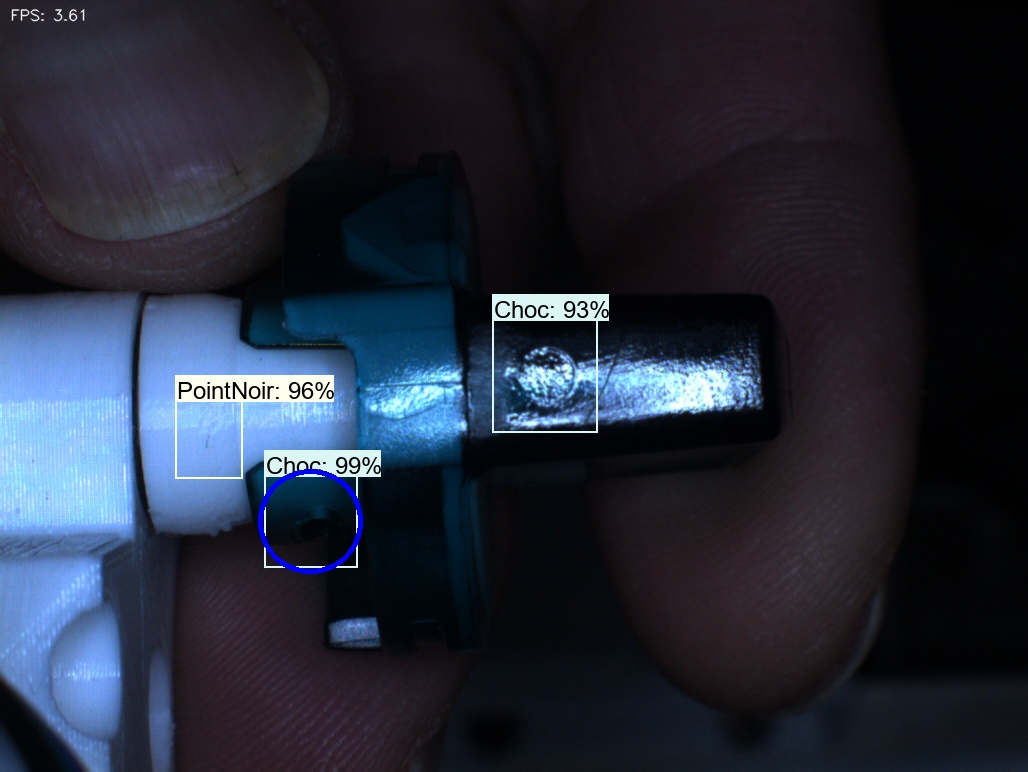DentOk: (307, 203, 388, 287)
